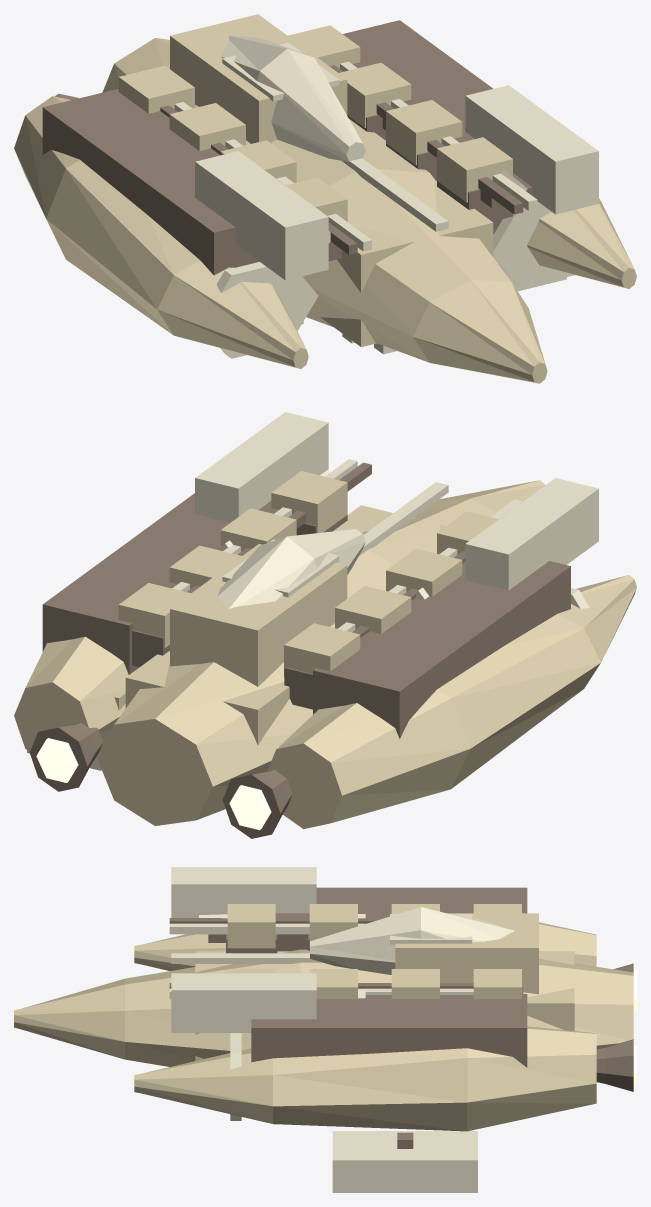
The picture shows the model from 3 angles, top to bottom: view 1: azimuth 30°, elevation 25°; view 2: azimuth 150°, elevation 25°; view 3: azimuth 270°, elevation 25°; orthographic projection. The views are drawn at different scales.
Bounding box in the file's own units: 16.21 × 8.51 × 24.3.
